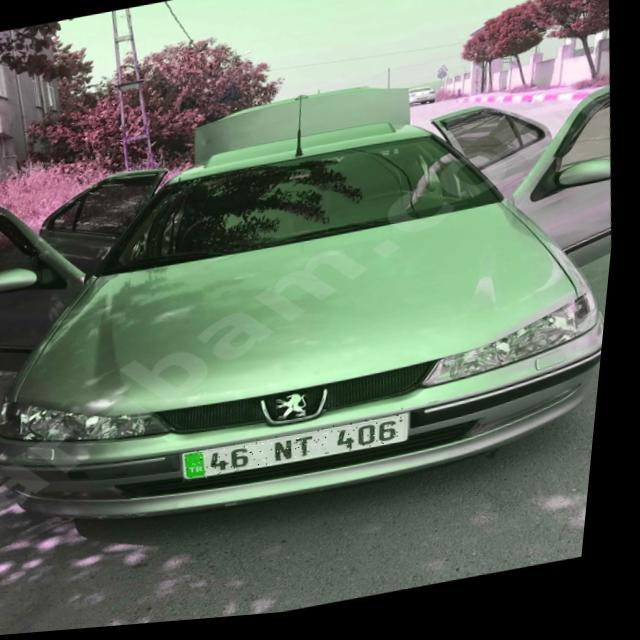license_plate: (189, 419, 420, 485)
